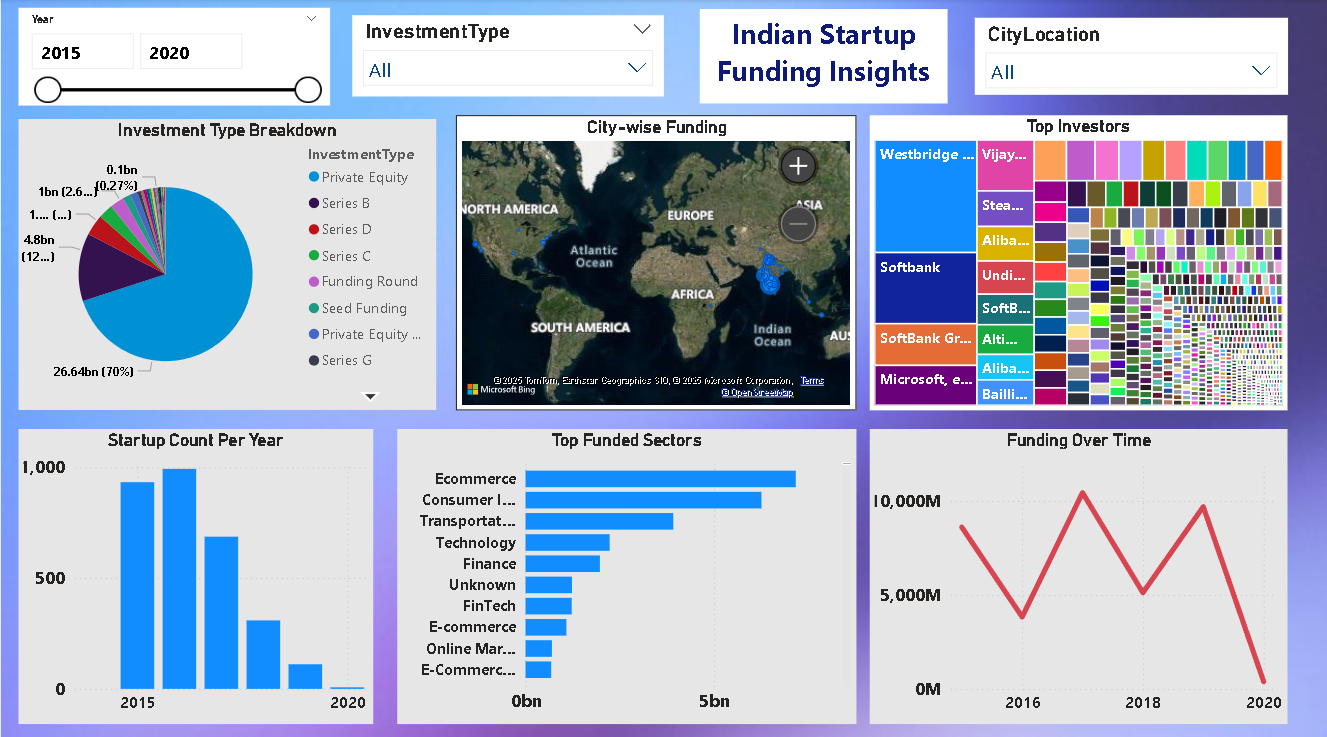

The dashboard page shown, as its layout file describes it:
{"tool":"powerbi","page":{"name":"Page 1","canvas":[1280,720],"ordinal":0},"visuals":[{"type":"lineChart","title":"Funding Over Time","fields":{"Y":["CLEANED_startup_funding.AmountUSD"],"Category":["CLEANED_startup_funding.Year"]},"box":[838.1,414.8,403.4,285.1],"z":0},{"type":"clusteredBarChart","title":"Top Funded Sectors","fields":{"Y":["CLEANED_startup_funding.AmountUSD"],"Category":["CLEANED_startup_funding.IndustryVertical"]},"box":[382,414.8,443.3,285.1],"z":1000},{"type":"pieChart","title":"Investment Type Breakdown","fields":{"Category":["CLEANED_startup_funding.InvestmentType"],"Y":["CLEANED_startup_funding.AmountUSD"]},"box":[17.1,115.5,403.4,280.8],"z":2000},{"type":"map","title":"City-wise Funding","fields":{"Category":["CLEANED_startup_funding.CityLocation"],"Size":["CLEANED_startup_funding.AmountUSD"]},"box":[439,112.6,386.3,285.1],"z":3000},{"type":"lineStackedColumnComboChart","title":"Startup Count Per Year","fields":{"Category":["CLEANED_startup_funding.Year"],"Y":["CLEANED_startup_funding.StartupName"]},"box":[17.1,414.8,342.1,285.1],"z":4000},{"type":"slicer","fields":{"Values":["CLEANED_startup_funding.Year"]},"box":[17.1,8.6,300.8,94.1],"z":5000},{"type":"slicer","fields":{"Values":["CLEANED_startup_funding.CityLocation"]},"box":[939.3,18.5,302.2,74.1],"z":6000},{"type":"slicer","fields":{"Values":["CLEANED_startup_funding.InvestmentType"]},"box":[339.2,15.7,300.8,78.4],"z":7000},{"type":"textbox","box":[674.2,10,239.5,91.2],"z":8000},{"type":"treemap","title":"Top Investors","fields":{"Values":["CLEANED_startup_funding.AmountUSD"],"Group":["CLEANED_startup_funding.InvestorsName"]},"box":[838.1,112.6,403.4,285.1],"z":9000}]}

Visuals, with their boxes in screenshot pixels (x1, y1, x2, y2), scaled from the page's 1280x720 canvas onto the 1327x737 screenshot:
"Funding Over Time" lineChart: [869, 425, 1287, 716]
"Top Funded Sectors" clusteredBarChart: [396, 425, 856, 716]
"Investment Type Breakdown" pieChart: [18, 118, 436, 406]
"City-wise Funding" map: [455, 115, 856, 407]
"Startup Count Per Year" lineStackedColumnComboChart: [18, 425, 372, 716]
slicer - CLEANED_startup_funding.Year: [18, 9, 330, 105]
slicer - CLEANED_startup_funding.CityLocation: [974, 19, 1287, 95]
slicer - CLEANED_startup_funding.InvestmentType: [352, 16, 664, 96]
textbox: [699, 10, 947, 104]
"Top Investors" treemap: [869, 115, 1287, 407]
